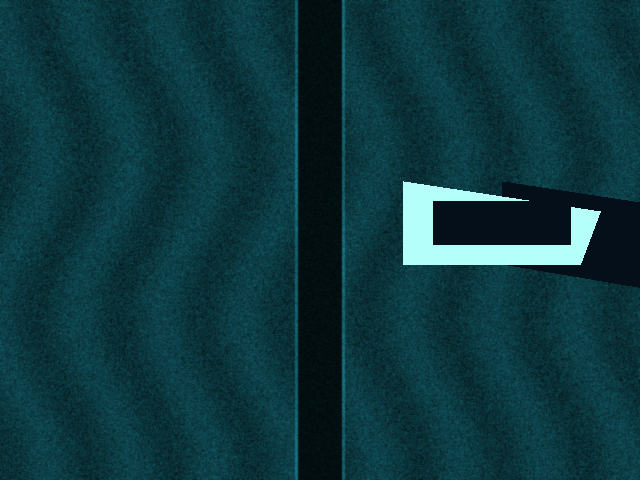Ship/Boat Debris: (403, 181, 600, 264)
